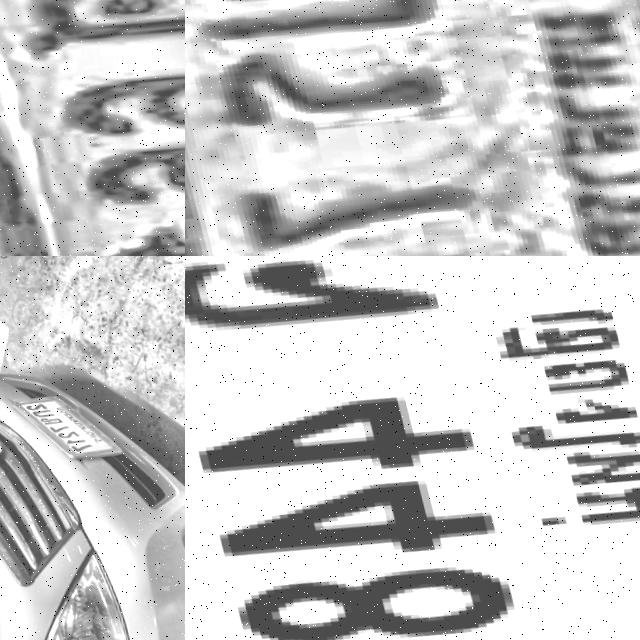license-plate: (185, 256, 640, 640), (185, 0, 640, 256), (0, 0, 185, 256), (5, 379, 121, 466)
